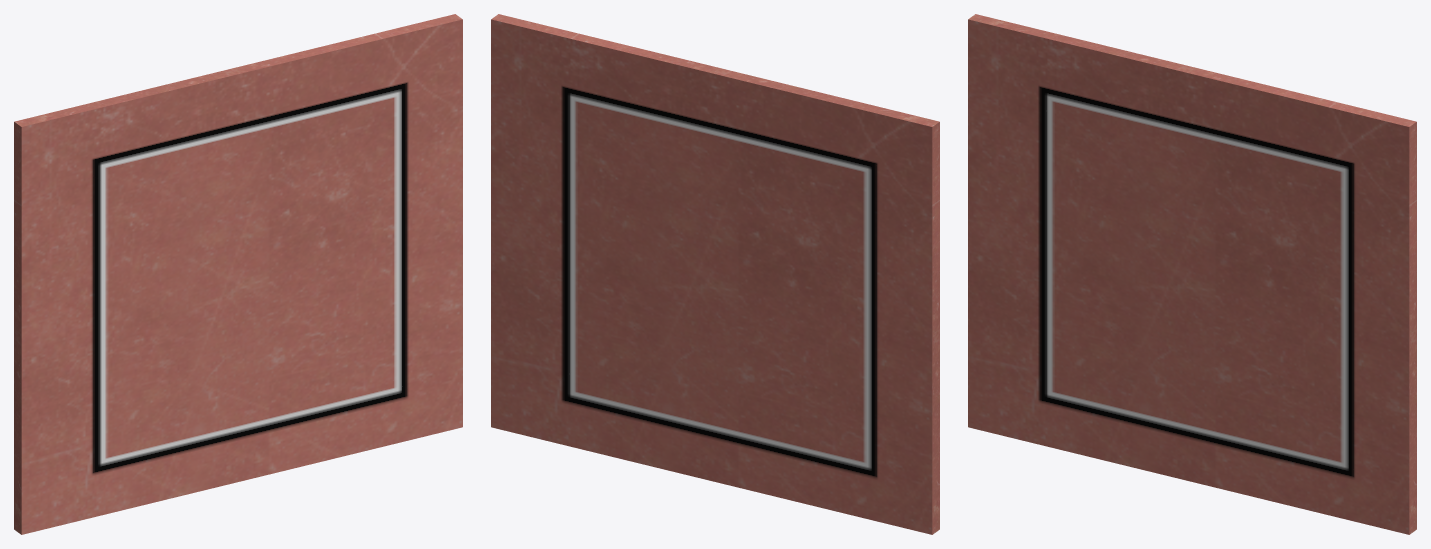
Rendered from SM_SJJ_HG_Wall03I.fbx.
The picture shows the model from 3 angles, left to right: view 1: azimuth 30°, elevation 25°; view 2: azimuth 150°, elevation 25°; view 3: azimuth 330°, elevation 25°; orthographic projection.
Visible parts, largest first — view 1: SM_SJJ_HG_Wall03I; view 2: SM_SJJ_HG_Wall03I; view 3: SM_SJJ_HG_Wall03I.
Part boxes in pixels (box(x1,y1,x2,y2)): SM_SJJ_HG_Wall03I: box(14, 14, 462, 534); SM_SJJ_HG_Wall03I: box(491, 14, 939, 534); SM_SJJ_HG_Wall03I: box(968, 14, 1416, 534).
Bounding box in the file's own units: 72.15 × 2.1 × 63.73.
1 material, 1 textured.
